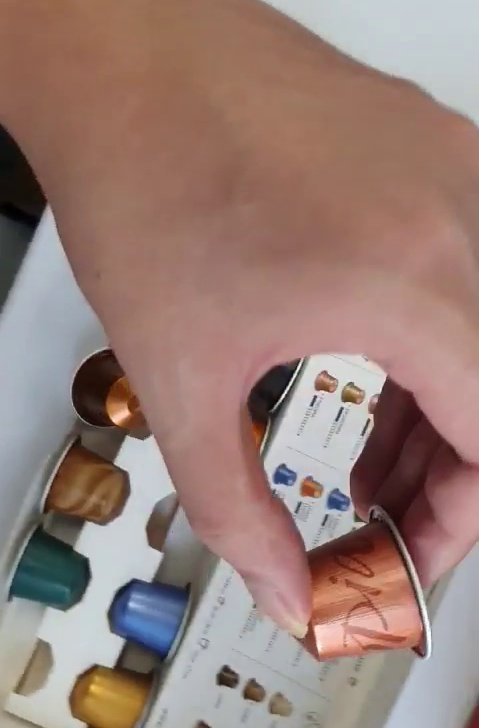capsule_6: (287, 504, 441, 668)
